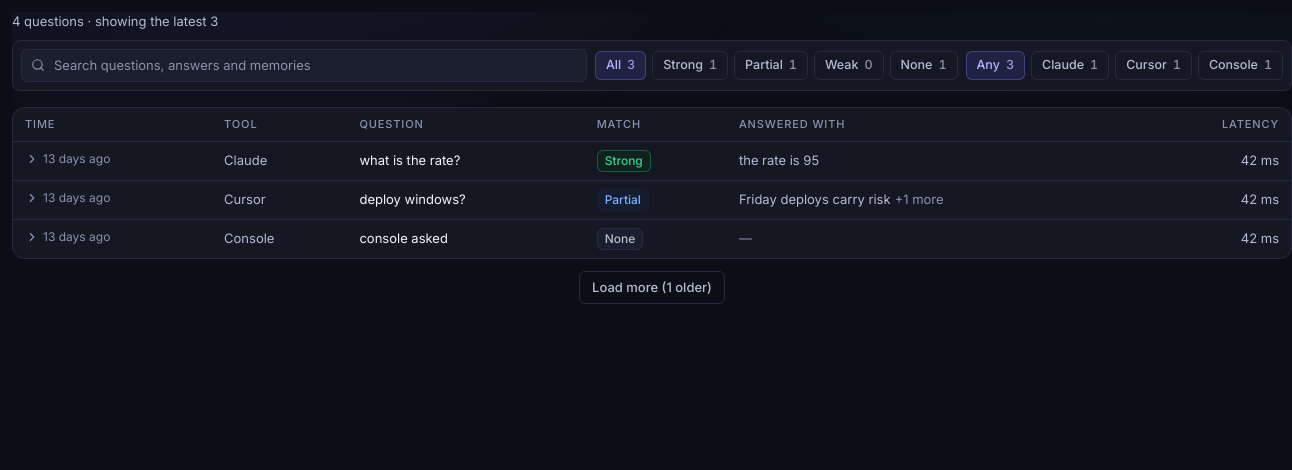
Test case: Query log (Refine PR 11) › finds a query by the memory that answered it, expands to the details, and hides raw metrics from tenants
Check: the text "deploy windows?" is shown, box [347, 180, 585, 219]
Type "banned in march" into the field labelled "Search" at coordinates (304, 65), box [21, 48, 587, 82]
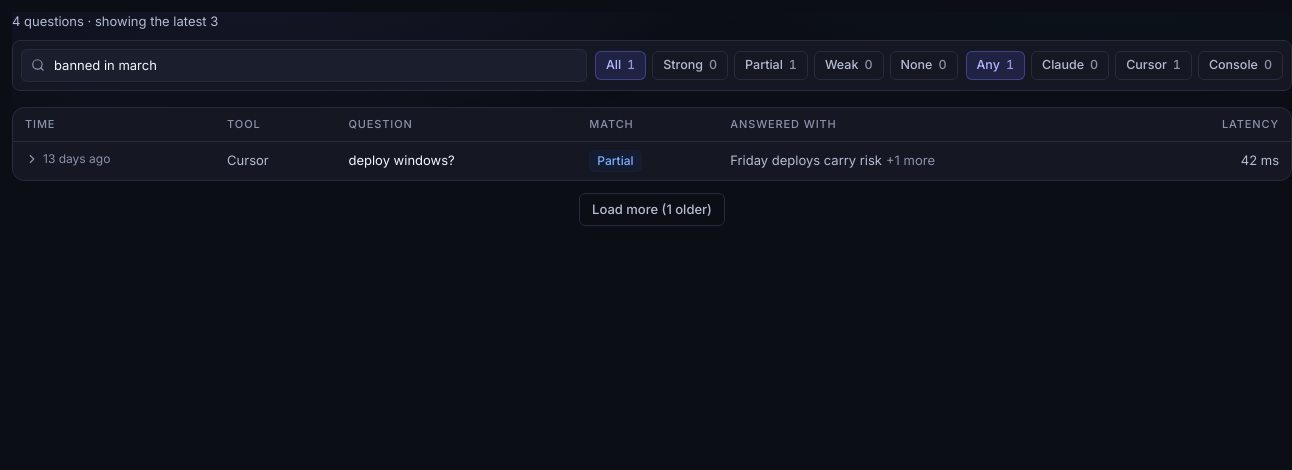
Check: the text "what is the rate?" is gone
Click the text "deploy windows?" at coordinates (652, 160), box [13, 141, 1291, 180]
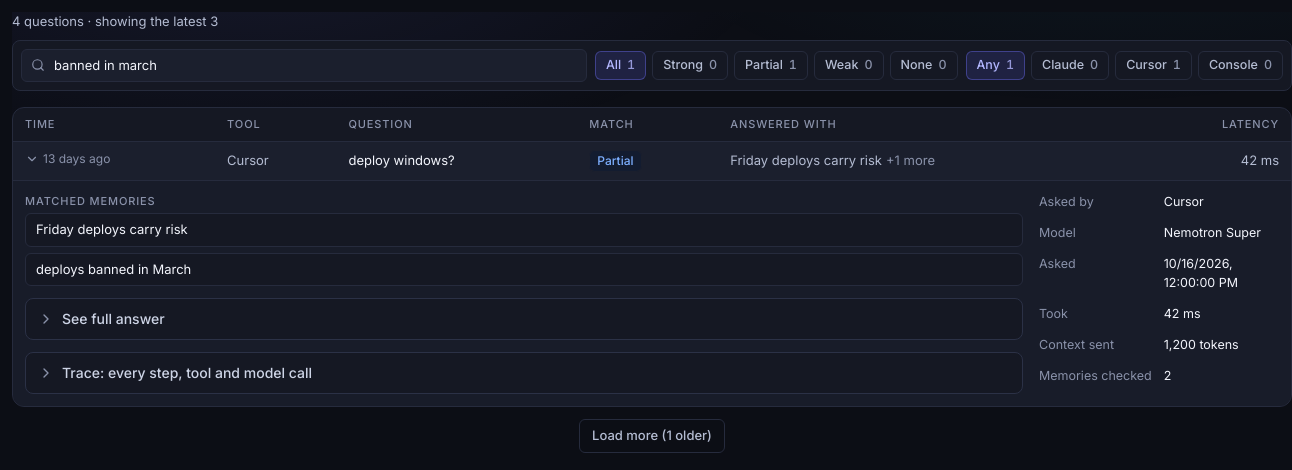
Check: the list item "deploys banned in March" is shown, box [25, 252, 1023, 286]
Check: the text "Cursor" is shown, box [1164, 194, 1204, 208]
Check: the text "Nemotron Super" is shown, box [1164, 225, 1261, 240]
